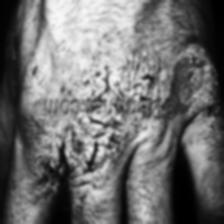Non-Cancerous Skin Condition: (77, 58, 167, 140), (182, 46, 224, 148), (41, 140, 127, 184)
